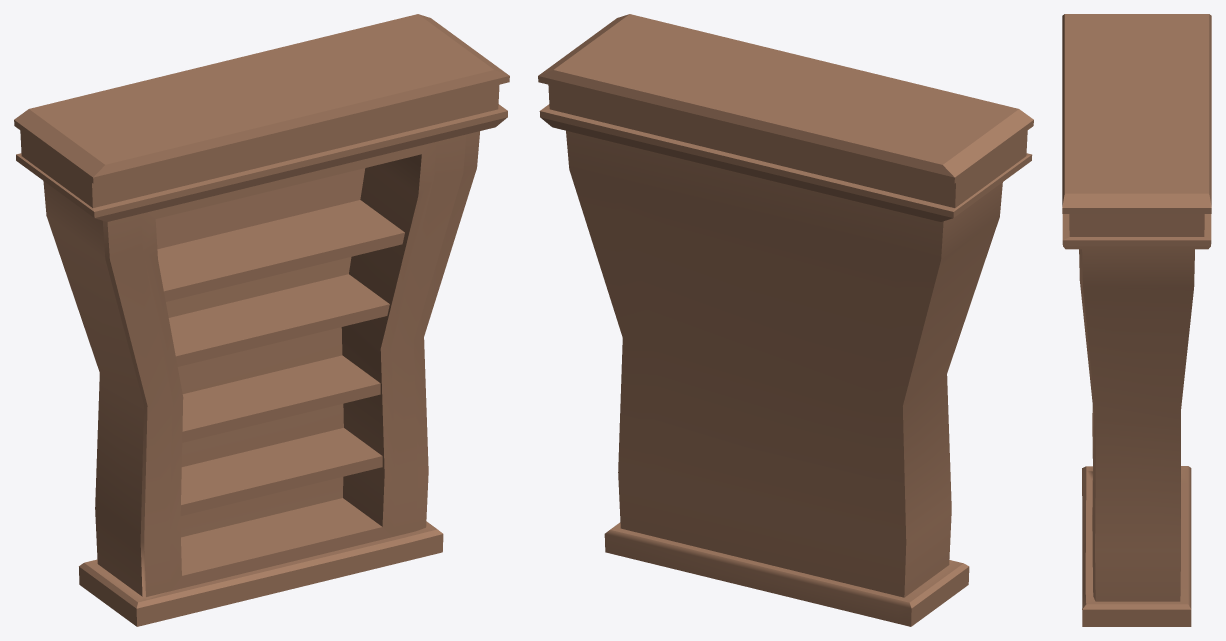
Rendered from Sm_Armoire_01.fbx.
3 views of the same model, side by side, from view 1: azimuth 30°, elevation 25°; view 2: azimuth 150°, elevation 25°; view 3: azimuth 270°, elevation 25° (orthographic). The views are drawn at different scales.
Visible parts, largest first — view 1: SM_Armoire_01; view 2: SM_Armoire_01; view 3: SM_Armoire_01.
Part boxes in pixels (left/top/right/bottom): SM_Armoire_01: left=14, top=14, right=509, bottom=626; SM_Armoire_01: left=538, top=14, right=1033, bottom=626; SM_Armoire_01: left=1062, top=14, right=1211, bottom=626.
Size of the model in its own units: 2.85 by 3.13 by 0.9359.
